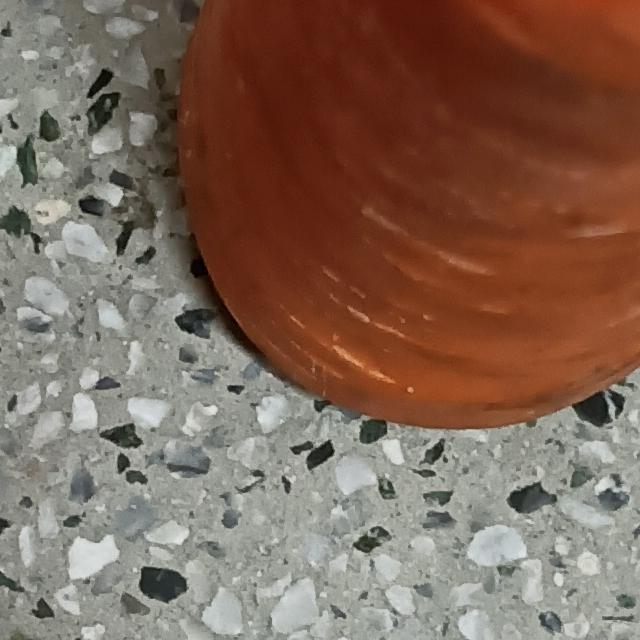carrot: (164, 1, 640, 441)
